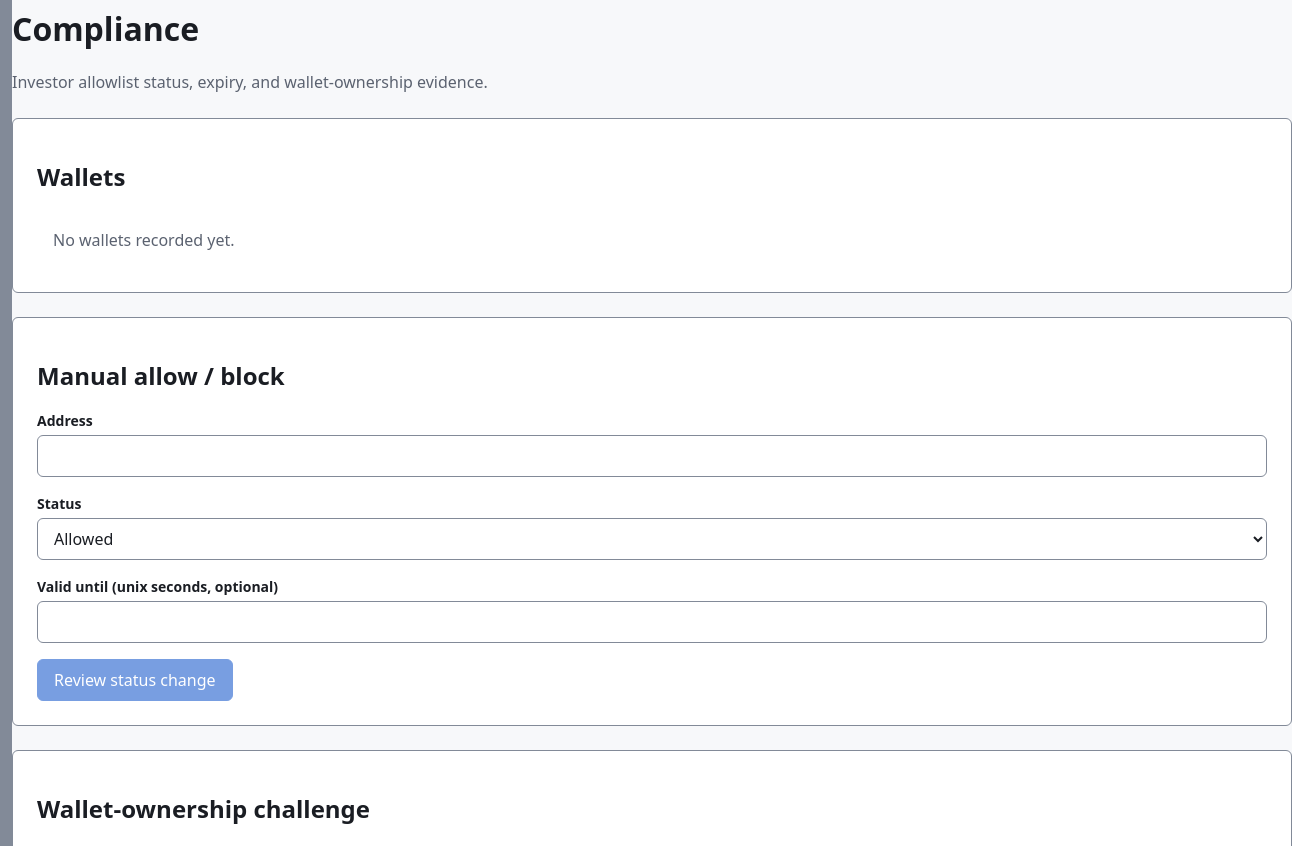
Scenario: Compliance manual allow / block › submits the status with a numeric expiry and a per-change idempotency key, then reloads wallets
The width and height of the screenshot is (1292, 846).
Type "0x1234567890123456789012345678901234567890" into the field labelled "Address" below "Manual allow / block" at (652,456), box [37,436,1267,478]
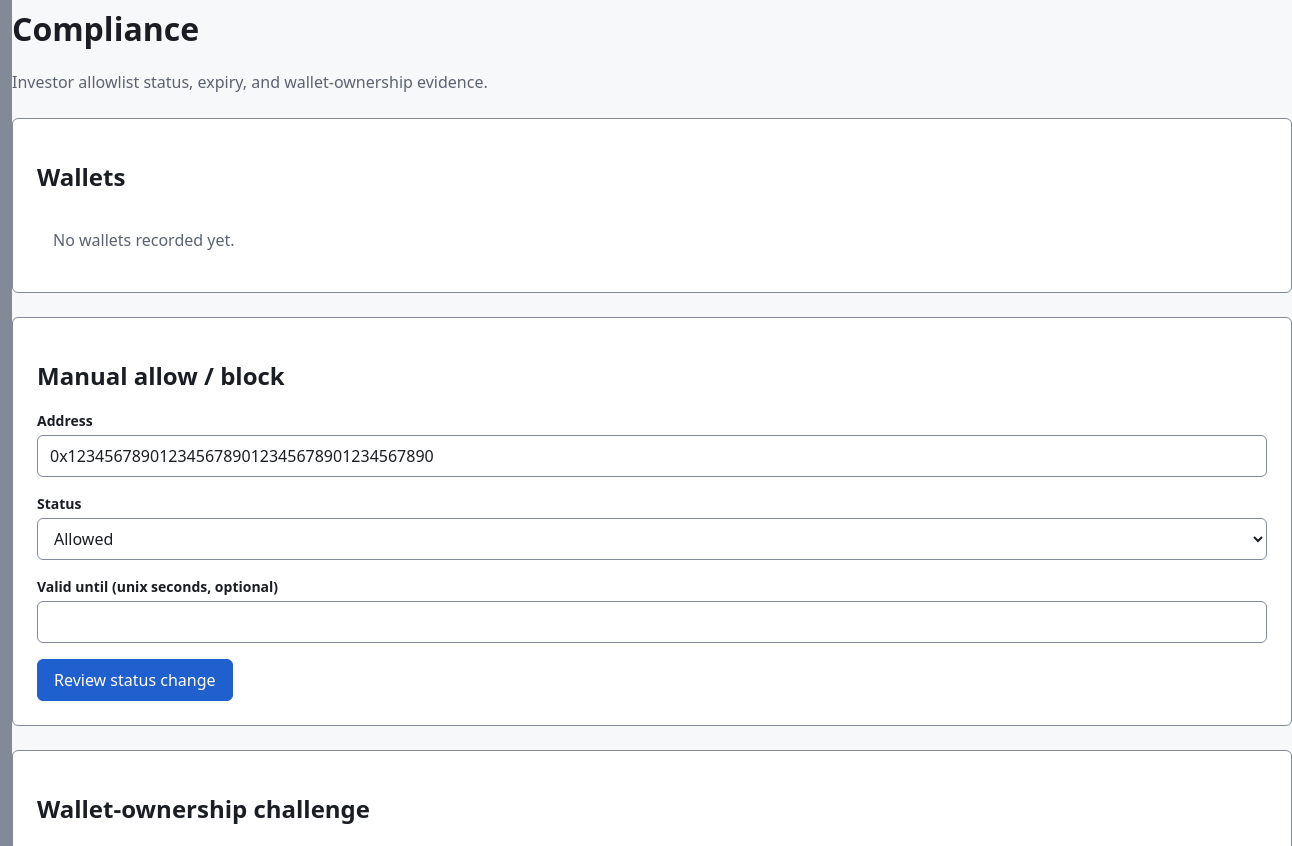
Select "Allowed" in the dropdown labelled "Status" at (652,540), box [37,518,1267,560]
Type "1900000000" into the field labelled "Valid until (unix seconds, optional)" at (652,622), box [37,602,1267,644]
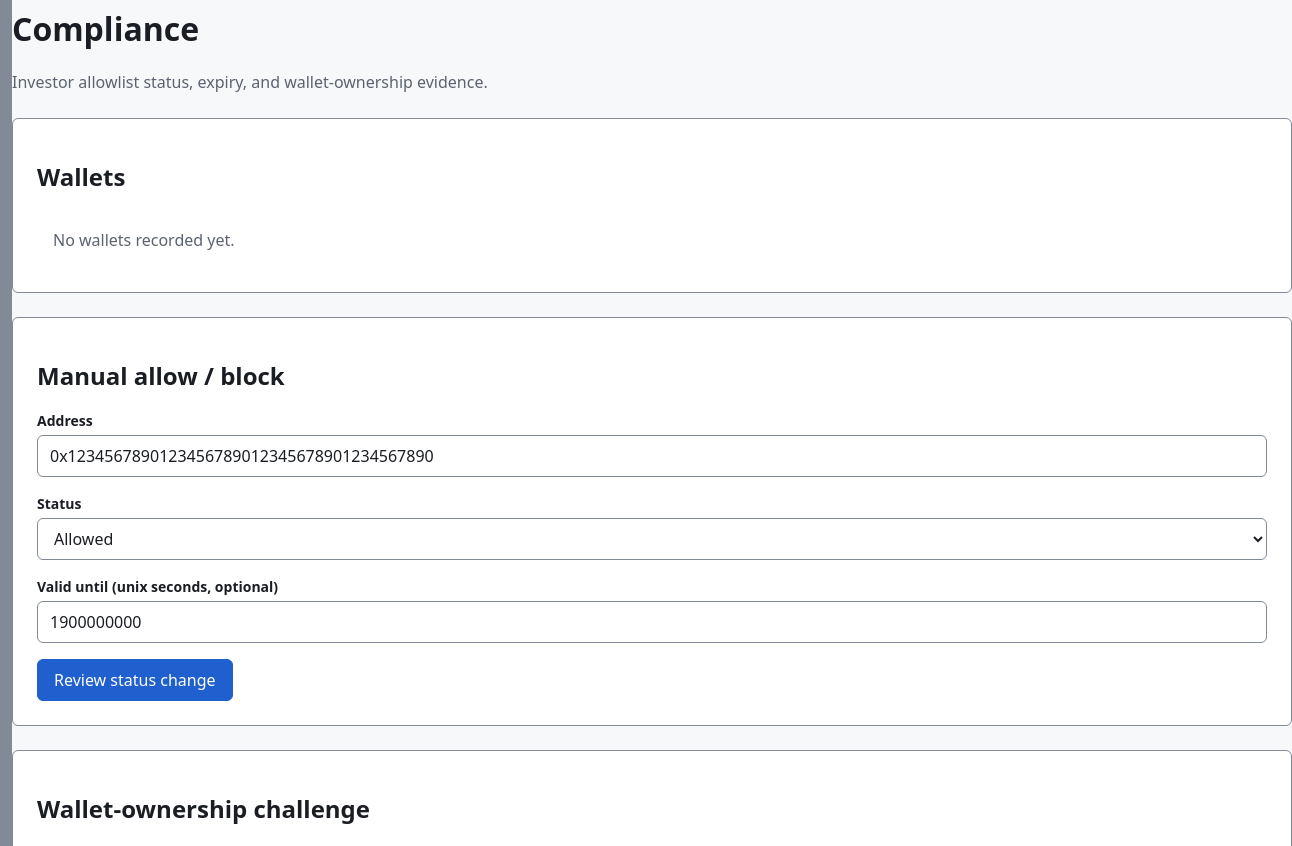
Click the button "Review status change" at (135,680), box [37,660,233,702]
(page scrolled)
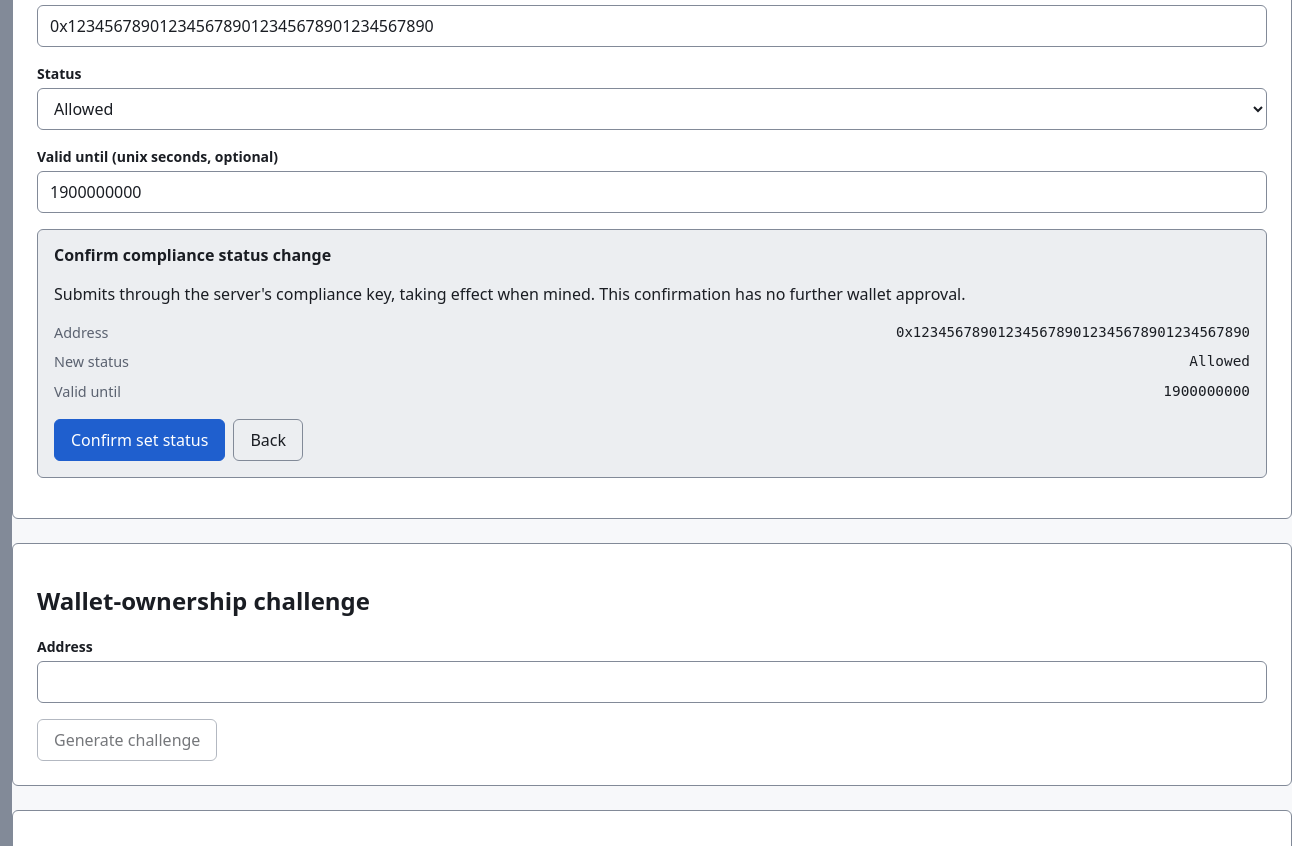
Click the button "Confirm set status" at (140,440), box [54,418,225,460]
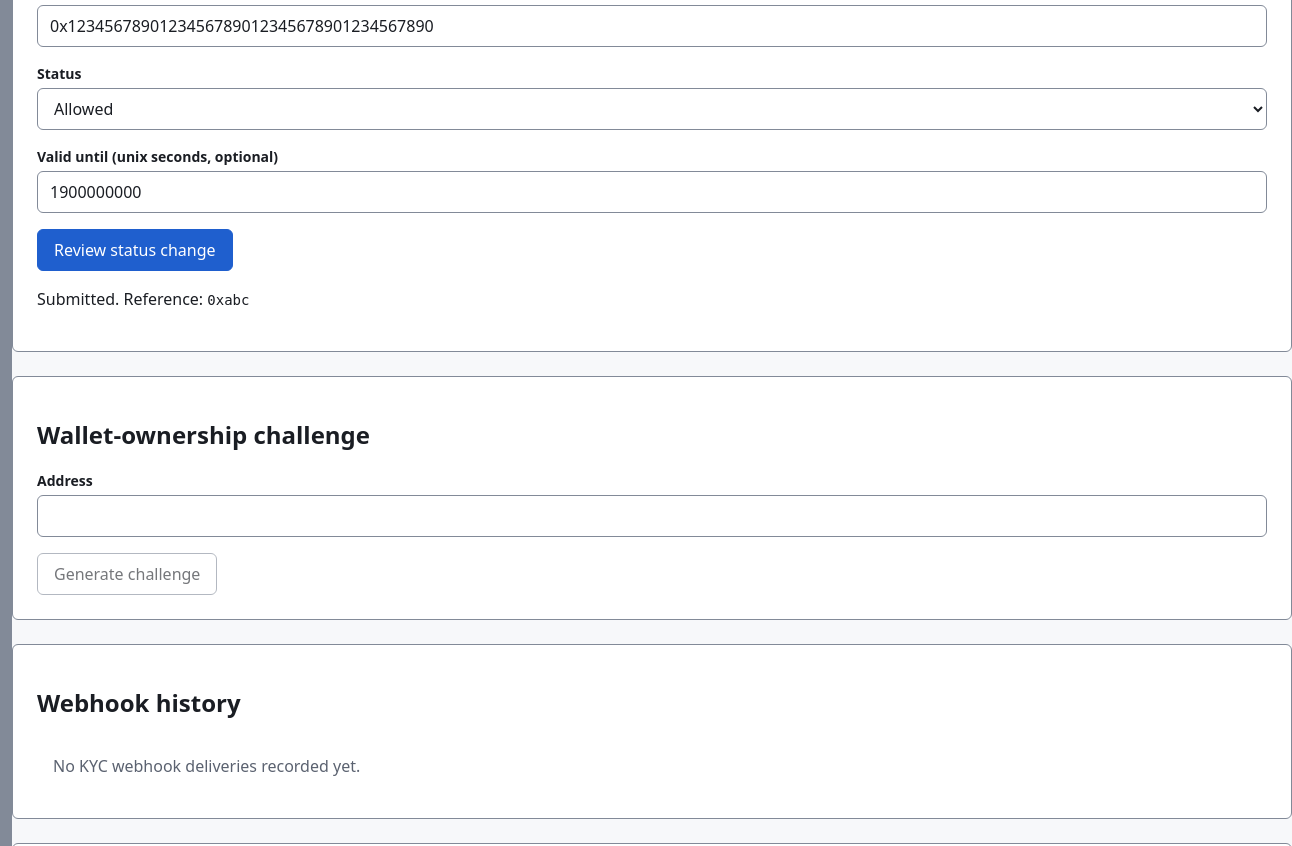
Now the text "0xabc" is shown, box [207,292,250,308]
Now the button "Review status change" is shown, box [37,230,233,272]
